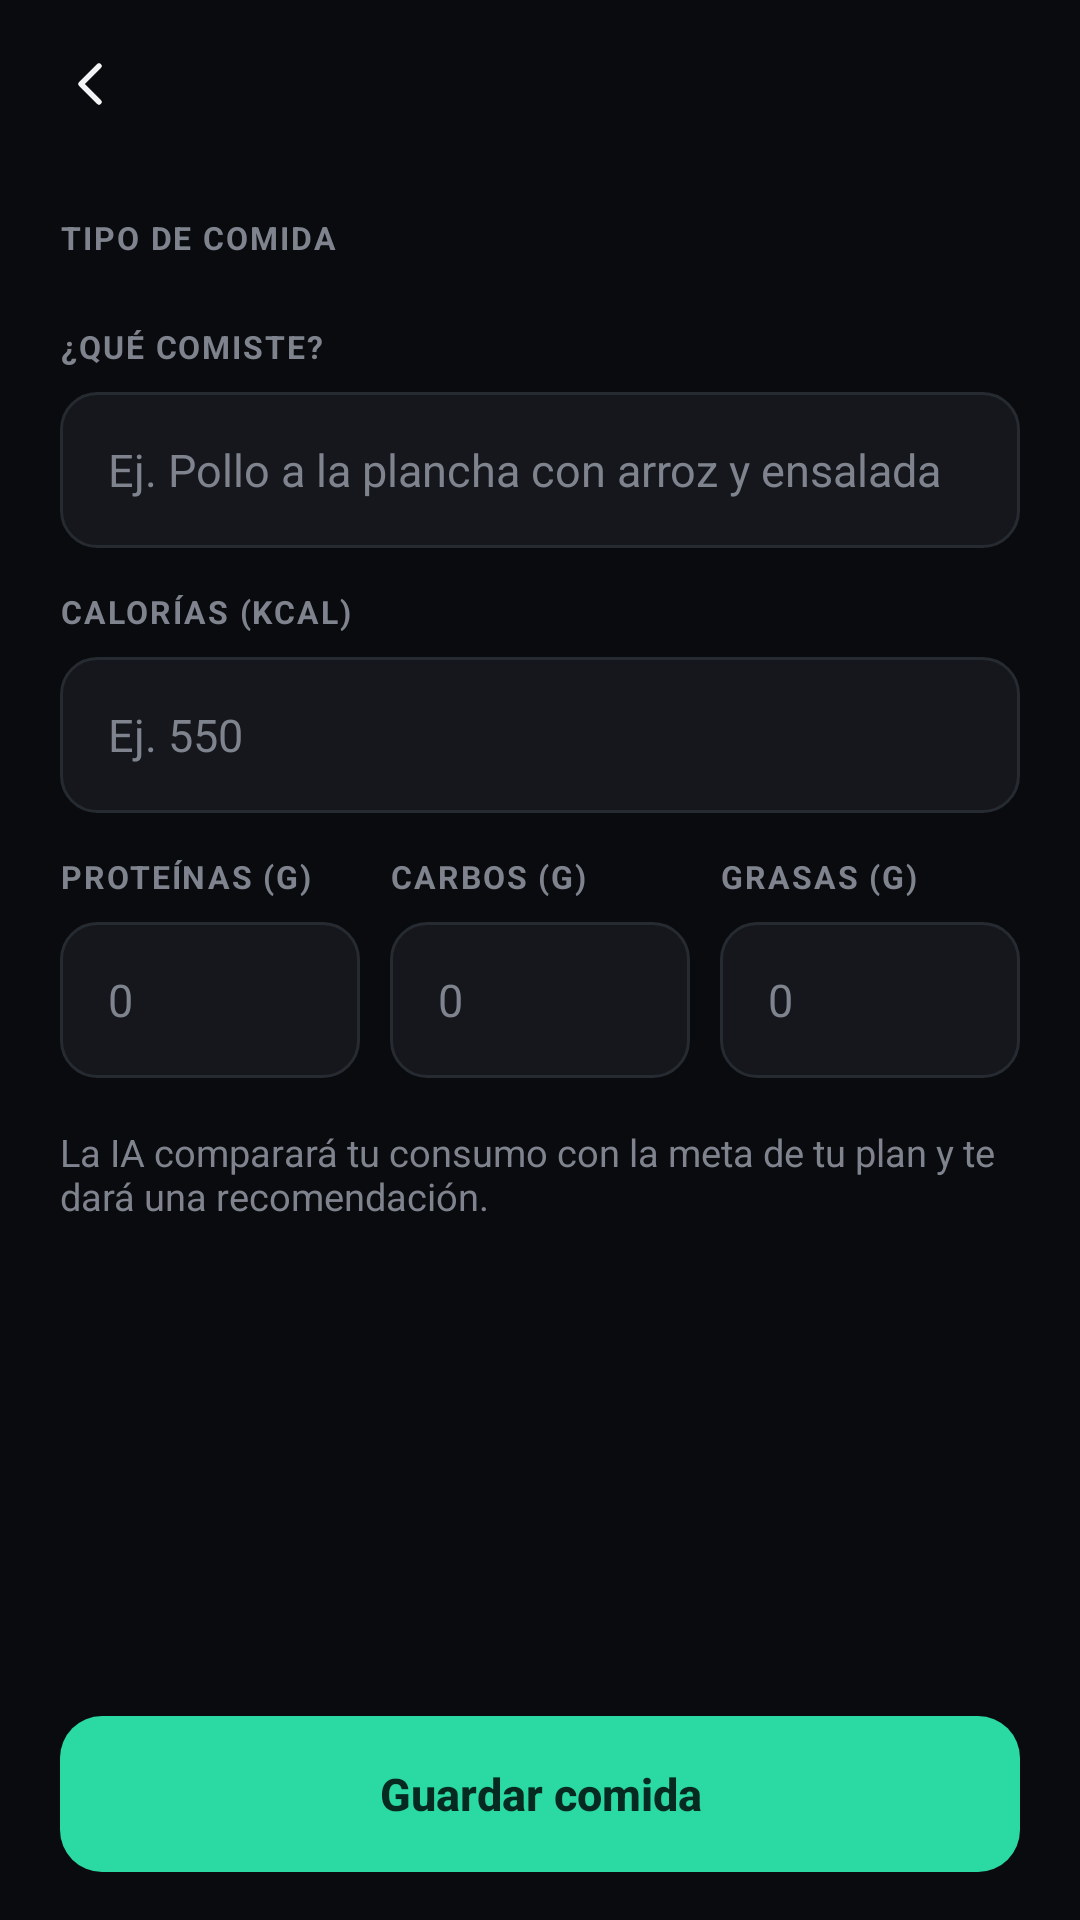

Named icons in this screenshot (1080w x 1920h) and their centers, [x,y]:
Atrás: [90,84]
